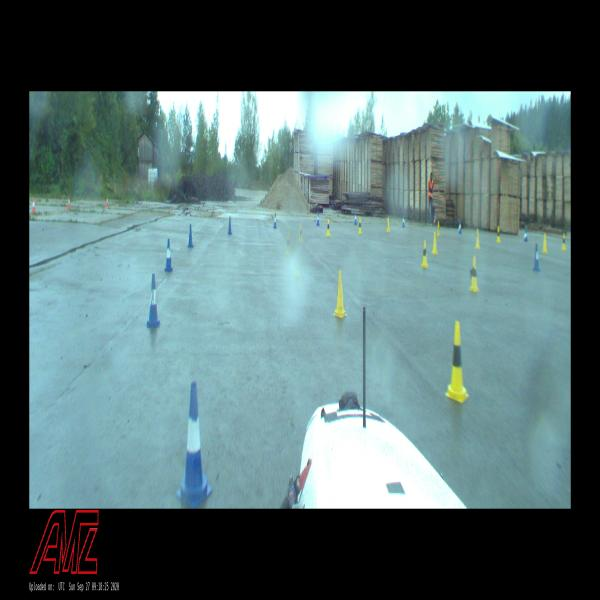blue_cone: (176, 381, 212, 507), (146, 274, 160, 327), (164, 240, 173, 271), (533, 244, 539, 270), (188, 225, 193, 248), (228, 216, 232, 233), (273, 213, 277, 229), (524, 227, 528, 241), (316, 212, 320, 225), (459, 221, 462, 234), (401, 215, 404, 227)
orange_cone: (66, 195, 70, 209), (32, 197, 35, 213), (106, 196, 109, 207)
yellow_cone: (445, 321, 470, 404), (333, 271, 347, 317), (469, 256, 478, 292), (293, 251, 300, 276), (422, 241, 428, 268), (285, 230, 291, 256), (432, 232, 437, 254), (542, 233, 546, 252), (562, 234, 566, 250), (496, 227, 500, 242), (386, 217, 390, 232), (476, 229, 479, 248), (299, 223, 302, 241), (327, 219, 330, 235), (358, 217, 361, 233), (437, 221, 440, 236)
